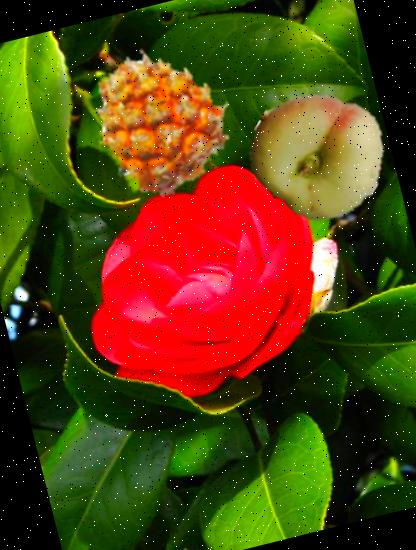Peach: (236, 74, 400, 237)
Pineapple: (71, 36, 244, 209)
